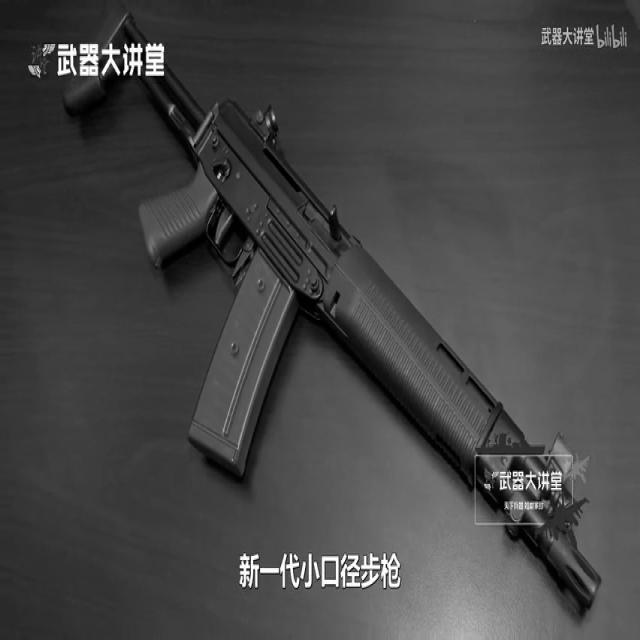Rifle: (56, 0, 612, 640)
